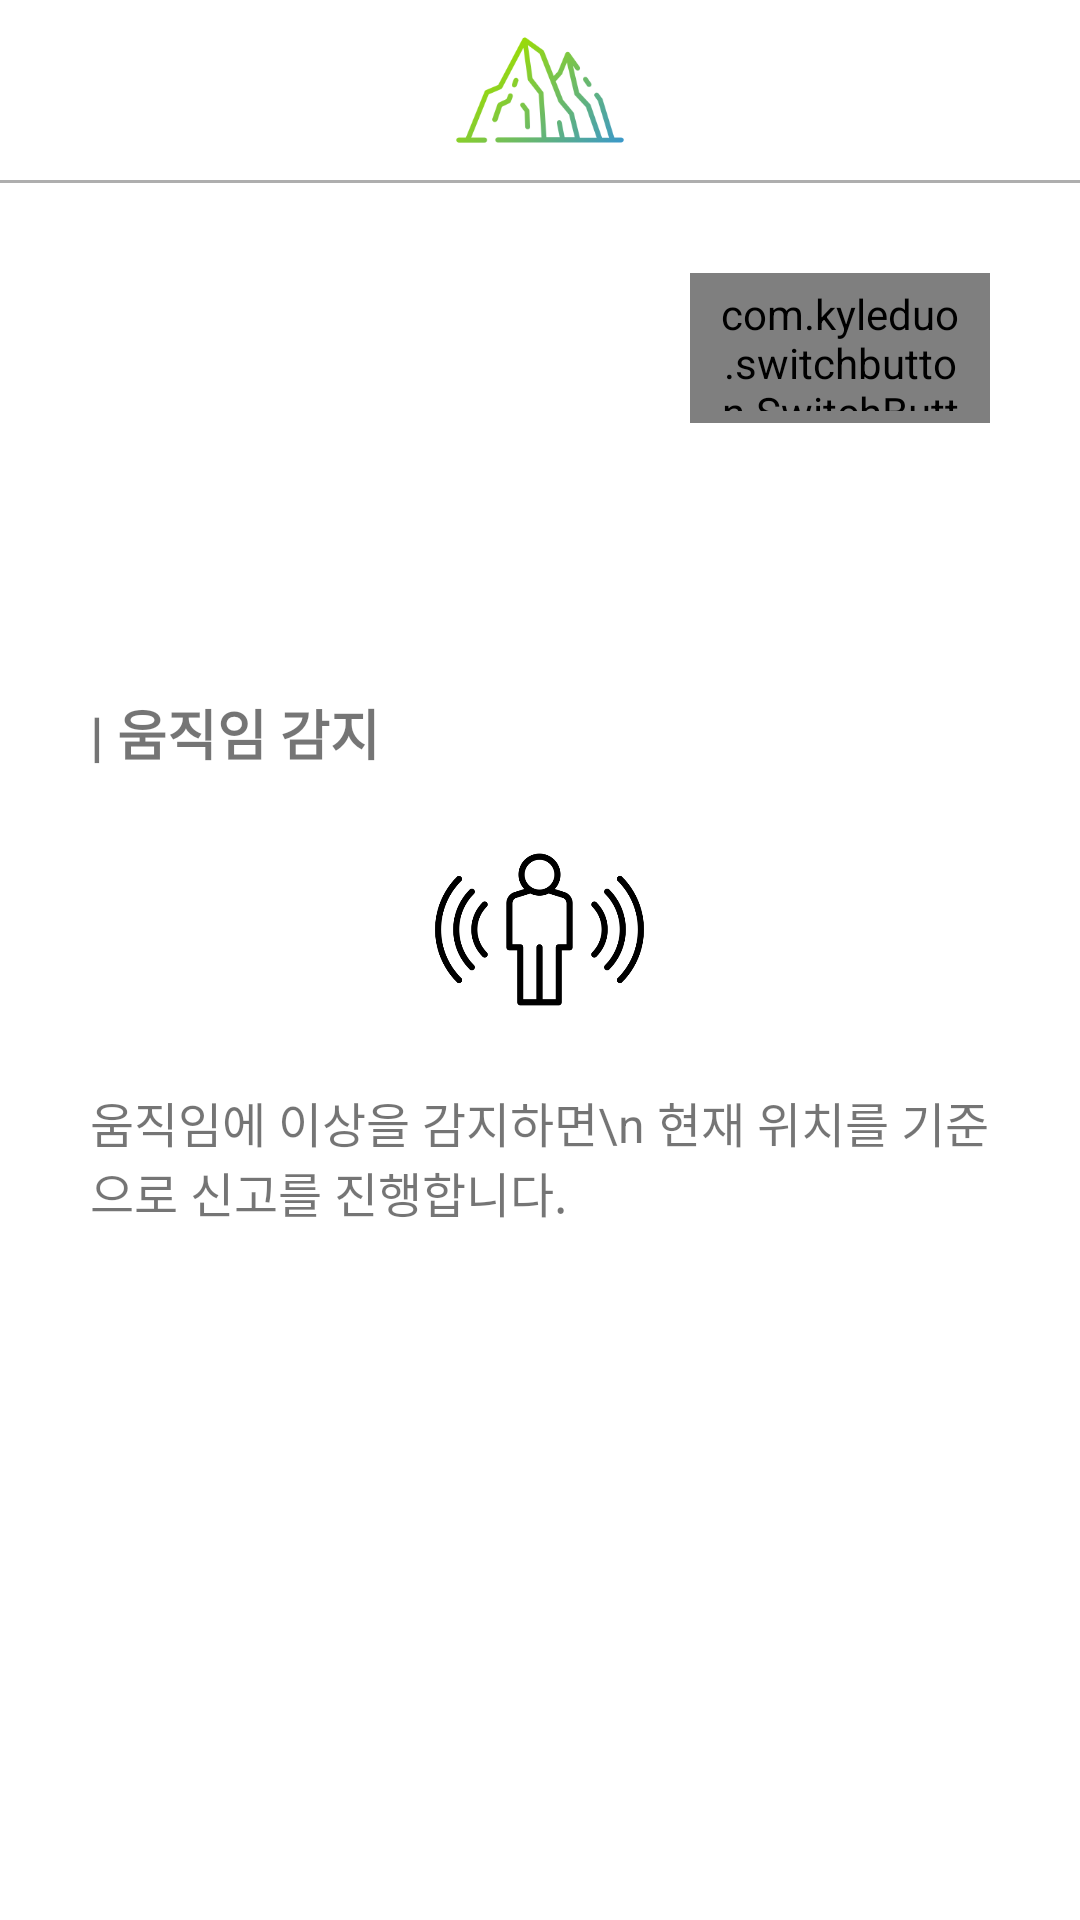

Point at icon controls on the screen. Image size 1080 × 1920, points as point (x, y).
motion: point (539, 929)
mountain: point (540, 90)
